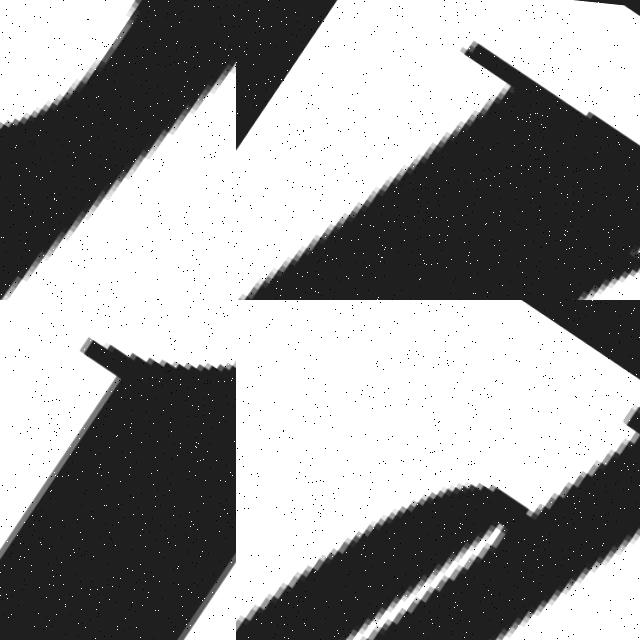D: (236, 300, 640, 640)
Q: (0, 0, 236, 300)
R: (236, 0, 640, 300)
T: (0, 300, 236, 640)
